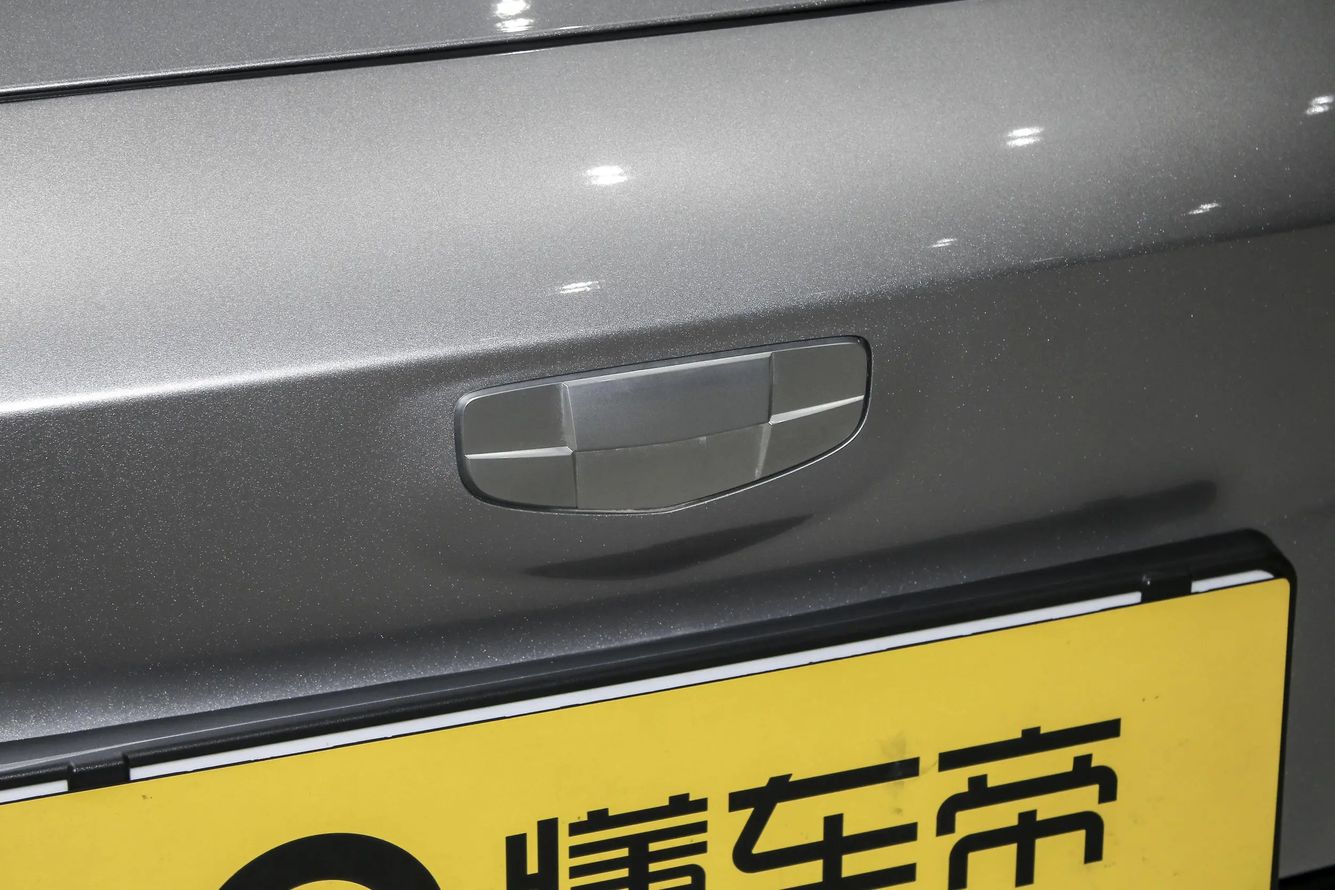GEOMETRY: (466, 345, 866, 509)
